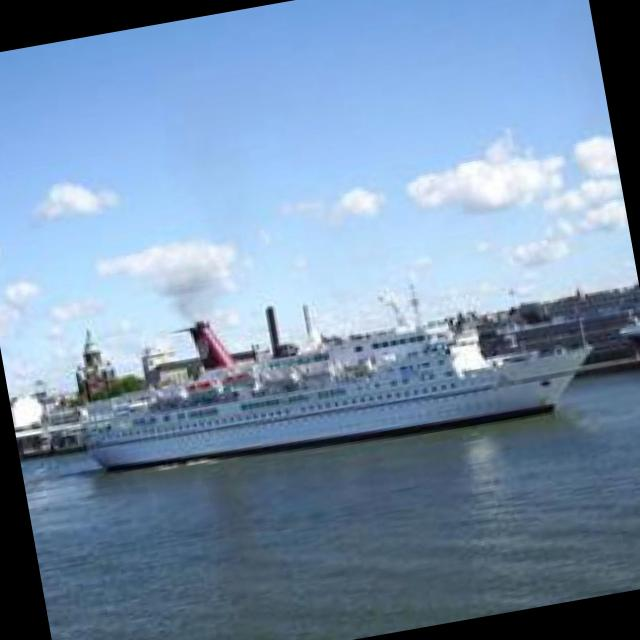boat: (72, 304, 588, 492)
